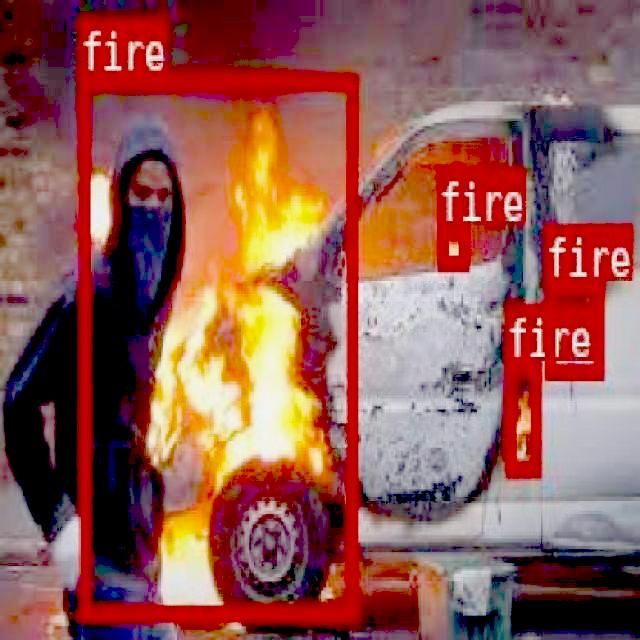fire: (78, 72, 354, 617), (542, 278, 602, 377), (504, 358, 540, 474), (436, 223, 466, 269)
